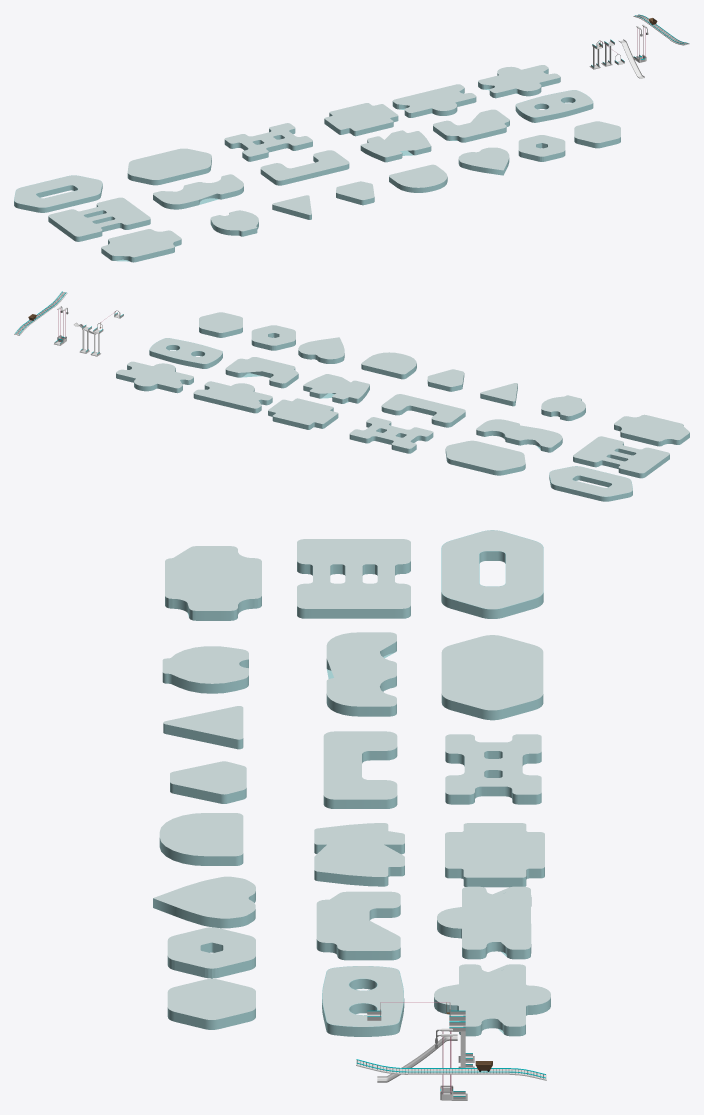
Rendered from models.fbx.
3 renders of one model, top to bottom at view 1: azimuth 30°, elevation 25°; view 2: azimuth 150°, elevation 25°; view 3: azimuth 270°, elevation 25°, orthographic. The views are drawn at different scales.
Parts seen in each view (by area): view 1: m_12, m_6, m_5, m_20, m_1, m_4, m_11, m_3, m_2, m_7, m_10, m_8 (+8 smaller); view 2: m_12, m_6, m_5, m_20, m_1, m_4, m_11, m_2, m_3, m_7, m_10, m_8 (+8 smaller); view 3: m_12, m_5, m_6, m_20, m_4, m_3, m_1, m_11, m_2, m_7, m_8, m_9 (+9 smaller).
Boxes of the visible parts, left/top/right/bottom form: m_12: left=48, top=197, right=150, bottom=241; m_6: left=14, top=175, right=102, bottom=212; m_5: left=127, top=148, right=211, bottom=185; m_20: left=101, top=229, right=181, bottom=262; m_1: left=478, top=65, right=560, bottom=98; m_4: left=224, top=123, right=312, bottom=161; m_11: left=153, top=174, right=243, bottom=209; m_3: left=324, top=103, right=398, bottom=136; m_2: left=392, top=84, right=476, bottom=117; m_7: left=515, top=90, right=593, bottom=122; m_10: left=260, top=150, right=349, bottom=185; m_8: left=433, top=109, right=509, bottom=142; m_12: left=573, top=436, right=669, bottom=478; m_6: left=549, top=466, right=632, bottom=501; m_5: left=445, top=440, right=525, bottom=475; m_20: left=614, top=414, right=689, bottom=446; m_1: left=116, top=361, right=193, bottom=393; m_4: left=349, top=417, right=433, bottom=453; m_11: left=476, top=419, right=562, bottom=452; m_2: left=193, top=381, right=272, bottom=413; m_3: left=268, top=398, right=338, bottom=429; m_7: left=149, top=338, right=222, bottom=368; m_10: left=381, top=394, right=465, bottom=427; m_8: left=225, top=357, right=298, bottom=388; m_12: left=297, top=539, right=410, bottom=618; m_5: left=441, top=635, right=543, bottom=720; m_6: left=441, top=530, right=543, bottom=618; m_20: left=165, top=546, right=261, bottom=620; m_4: left=445, top=734, right=541, bottom=804; m_3: left=445, top=823, right=544, bottom=887; m_1: left=434, top=964, right=550, bottom=1036; m_11: left=326, top=632, right=396, bottom=716; m_2: left=437, top=886, right=531, bottom=959; m_7: left=322, top=966, right=404, bottom=1036; m_8: left=316, top=891, right=400, bottom=960; m_9: left=314, top=823, right=404, bottom=886.
Size of the model in its own units: 892 by 52.87 by 254.
